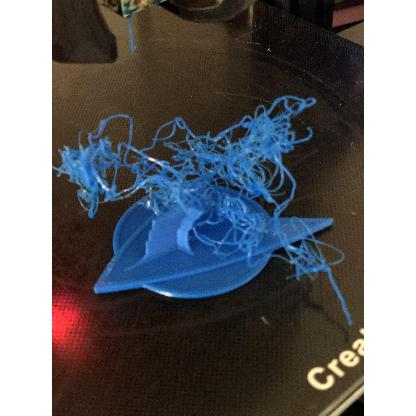fail: (55, 103, 348, 309)
